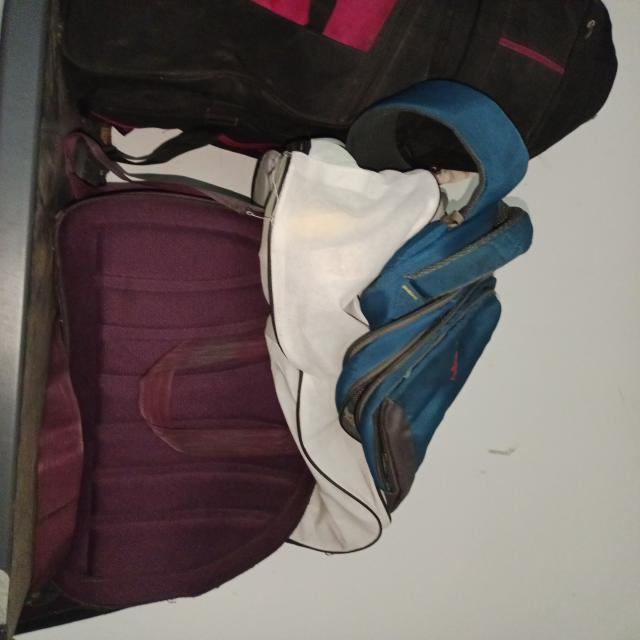suitcaserotation: (15, 131, 318, 637), (52, 0, 622, 167), (332, 75, 537, 518)
